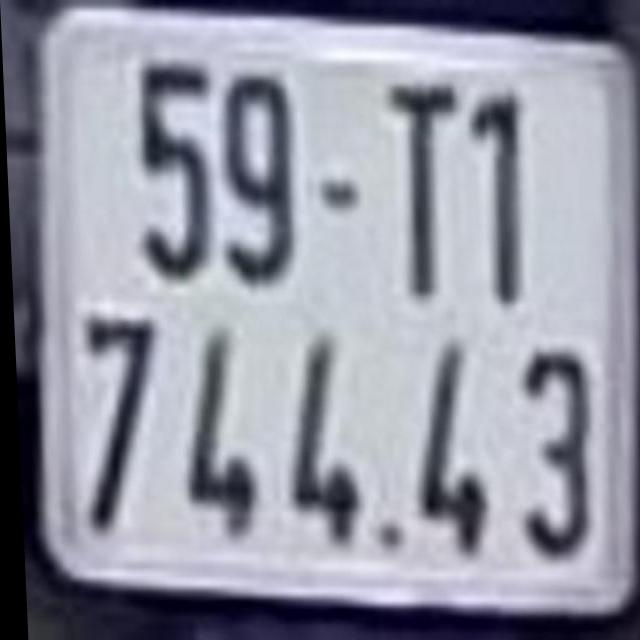1: (468, 89, 525, 305)
3: (518, 339, 584, 551)
4: (176, 322, 257, 536), (281, 336, 360, 544), (416, 332, 486, 550)
5: (131, 52, 211, 276)
7: (75, 308, 159, 534)
9: (220, 76, 298, 284)
T: (386, 80, 462, 290)
